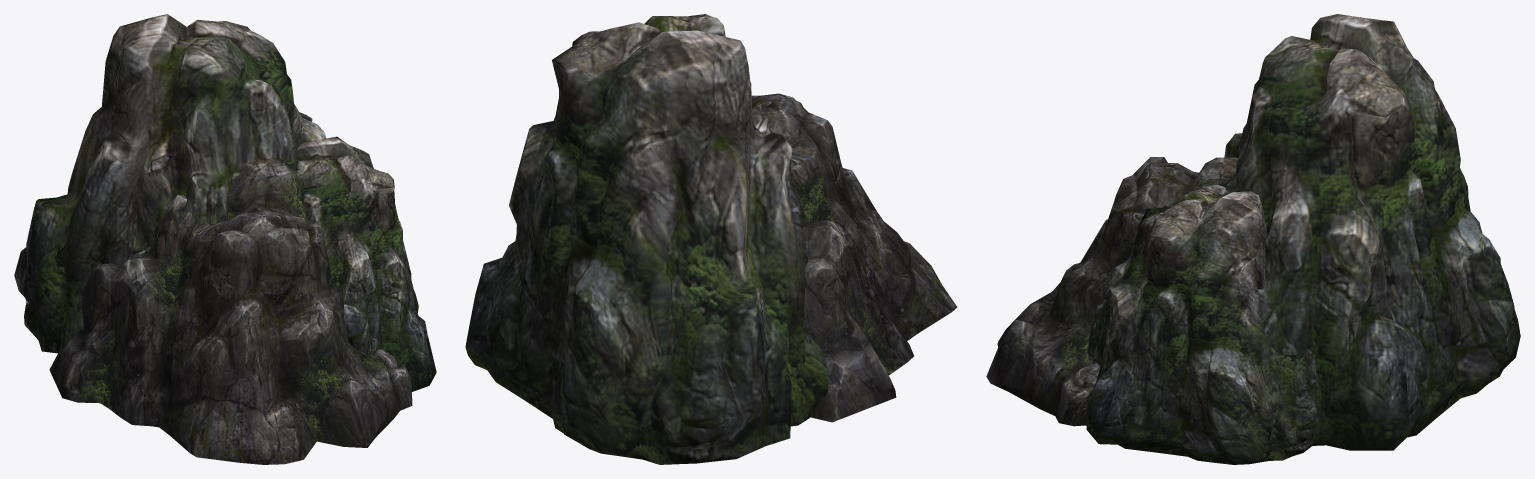
File: qys_shanshi02.FBX
3 renders of one model, left to right at view 1: azimuth 30°, elevation 25°; view 2: azimuth 150°, elevation 25°; view 3: azimuth 270°, elevation 25°, orthographic. The views are drawn at different scales.
Parts seen in each view (by area): view 1: Group01; view 2: Group01; view 3: Group01.
Part boxes in pixels (box(x1,y1,x2,y2)): Group01: box(14, 14, 436, 464); Group01: box(465, 14, 957, 464); Group01: box(986, 14, 1520, 464).
Size of the model in its own units: 4175 by 3730 by 5266.
